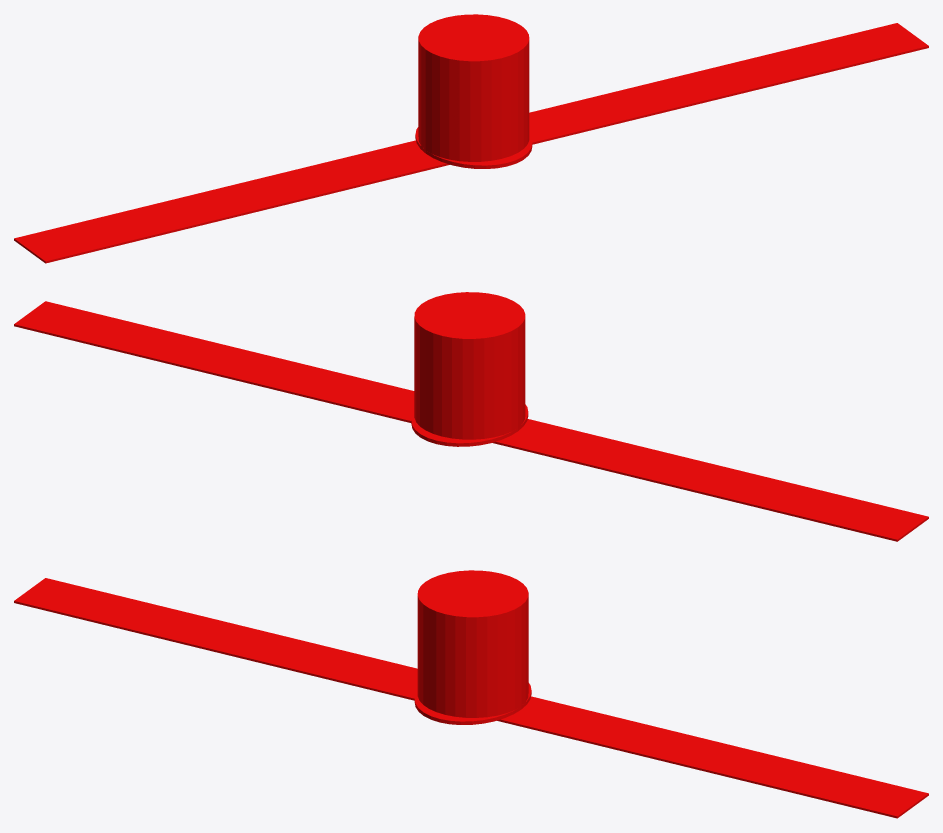
3 renders of one model, top to bottom at view 1: azimuth 30°, elevation 25°; view 2: azimuth 150°, elevation 25°; view 3: azimuth 330°, elevation 25°, orthographic.
Parts seen in each view (by area): view 1: tmp_export_Cylinder.013; view 2: tmp_export_Cylinder.013; view 3: tmp_export_Cylinder.013.
Part boxes in pixels (left/top/right/bottom): tmp_export_Cylinder.013: left=14, top=14, right=928, bottom=263; tmp_export_Cylinder.013: left=14, top=292, right=928, bottom=541; tmp_export_Cylinder.013: left=14, top=570, right=928, bottom=818.
Size of the model in its own units: 18.36 by 2.4 by 2.11.
